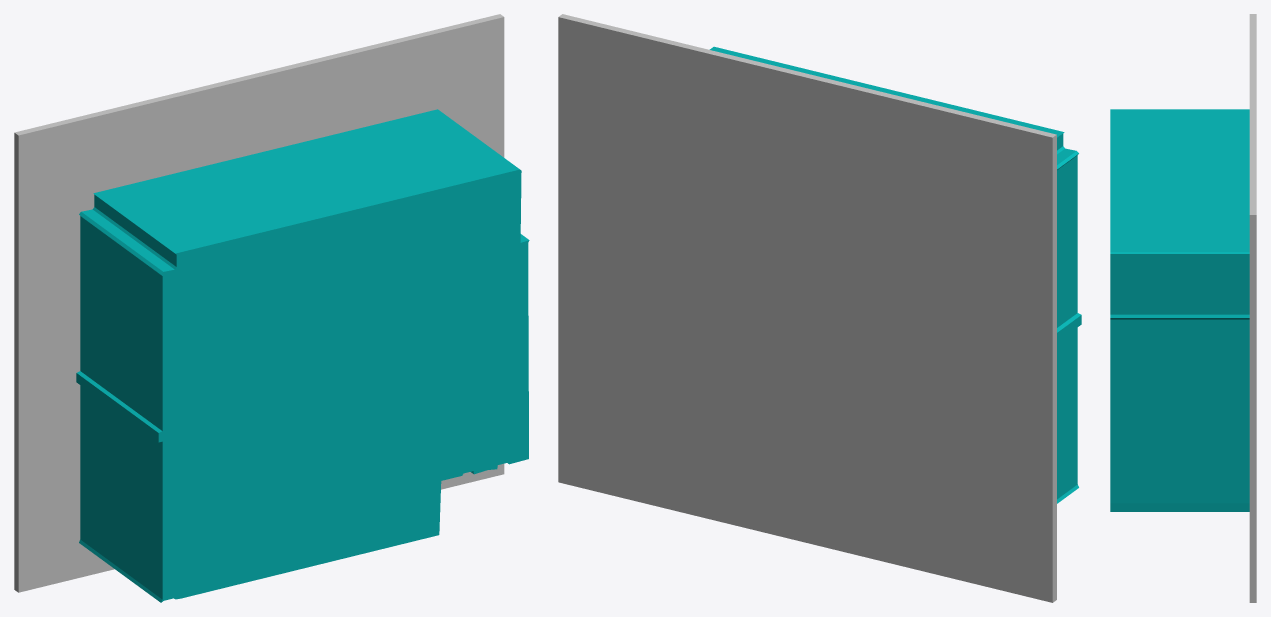
3 renders of one model, left to right at view 1: azimuth 30°, elevation 25°; view 2: azimuth 150°, elevation 25°; view 3: azimuth 270°, elevation 25°, orthographic. The views are drawn at different scales.
Parts seen in each view (by area): view 1: world; view 2: world; view 3: world.
Boxes of the visible parts, <box> form: world: <box>14,14,529,602</box>; world: <box>558,14,1081,602</box>; world: <box>1110,14,1256,602</box>.
Bounding box in the file's own units: 10.23 × 9.2 × 3.15.
